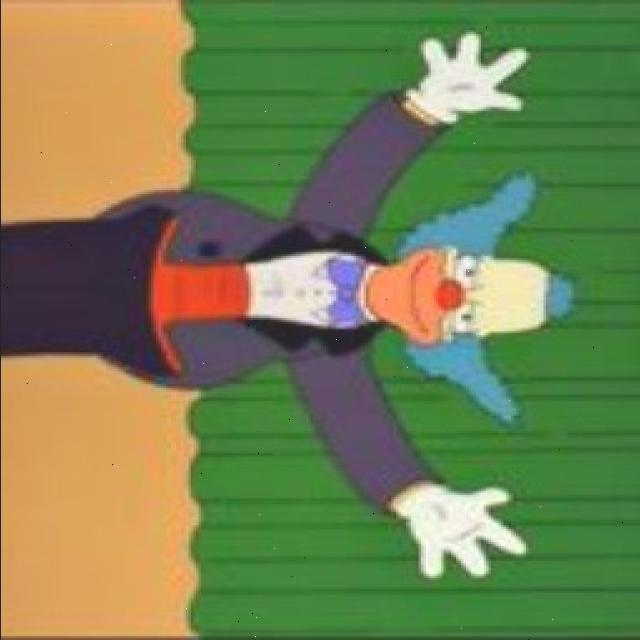Krusty the Clown: (348, 175, 582, 424)
